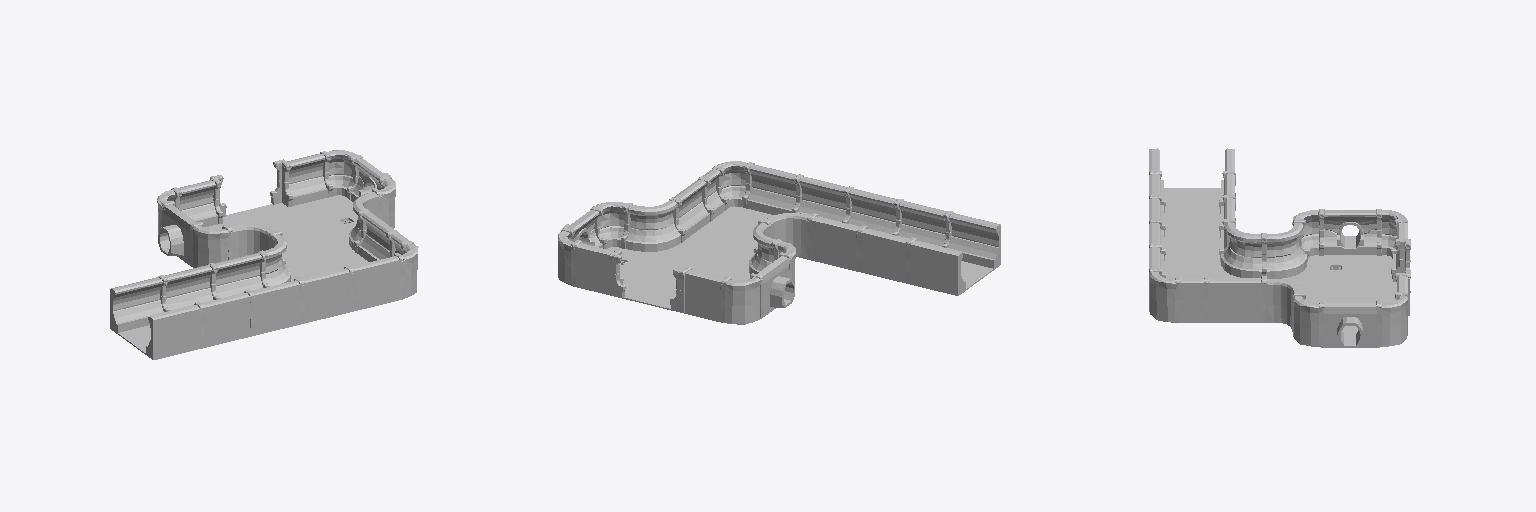
File: DungeonRoom_08.obj
3 views of the same model, side by side, from view 1: azimuth 30°, elevation 25°; view 2: azimuth 150°, elevation 25°; view 3: azimuth 270°, elevation 25° (orthographic).
Parts seen in each view (by area): view 1: DungeonRoom_08; view 2: DungeonRoom_08; view 3: DungeonRoom_08.
Boxes of the visible parts, box(x1,y1,x2,y2) form: DungeonRoom_08: box(110, 150, 418, 359); DungeonRoom_08: box(558, 161, 1000, 324); DungeonRoom_08: box(1149, 148, 1410, 347).
Bounding box in the file's own units: 54 × 8.22 × 36.51.